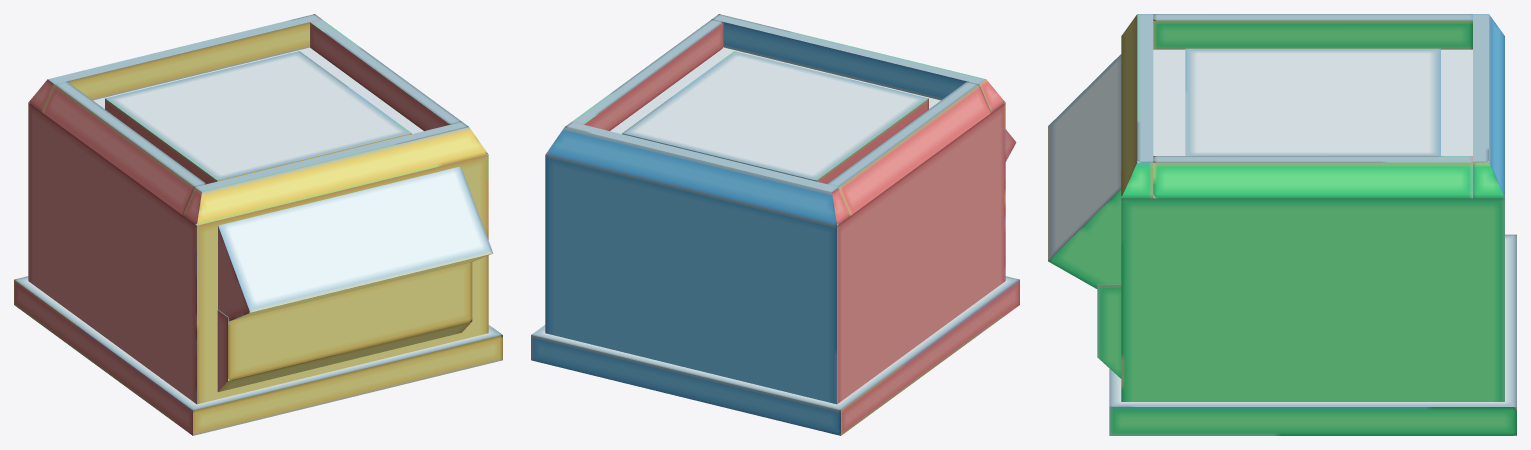
The model's file is incubator.obj.
3 renders of one model, left to right at view 1: azimuth 30°, elevation 25°; view 2: azimuth 150°, elevation 25°; view 3: azimuth 270°, elevation 25°, orthographic. The views are drawn at different scales.
Visible parts, largest first — view 1: mesh; view 2: mesh; view 3: mesh.
Part boxes in pixels (left/top/right/bottom): mesh: left=14, top=14, right=502, bottom=435; mesh: left=531, top=14, right=1019, bottom=435; mesh: left=1048, top=14, right=1516, bottom=435.
Size of the model in its own units: 3.19 by 2.26 by 3.67.
1 material, 1 textured.
